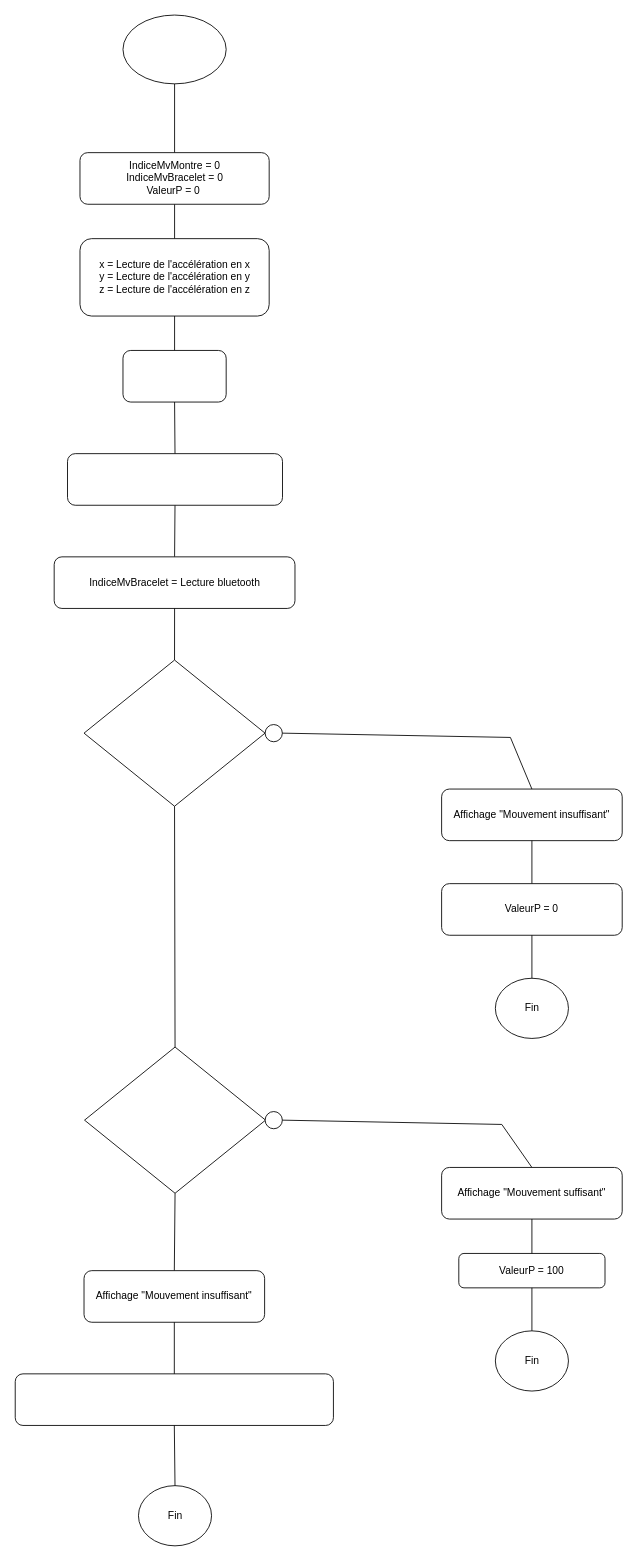
This 637x1561 diagram has some shape labels left out. Each missing label, with the centre of its shape:
"Début" belongs at [174,49].
"IndiceMvBracelet = 0" belongs at [174,732].
"IndiceMvMontre = x+y+z" belongs at [175,479].
"IndiceMvMontre/IndiceMvBracelet >1" belongs at [175,1119].
"ValeurP = (IndiceMvMontre/IndiceMvBracelet) *100" belongs at [173,1399].
"x = abs(x) y = abs(y) z = abs(z)" belongs at [174,376].
